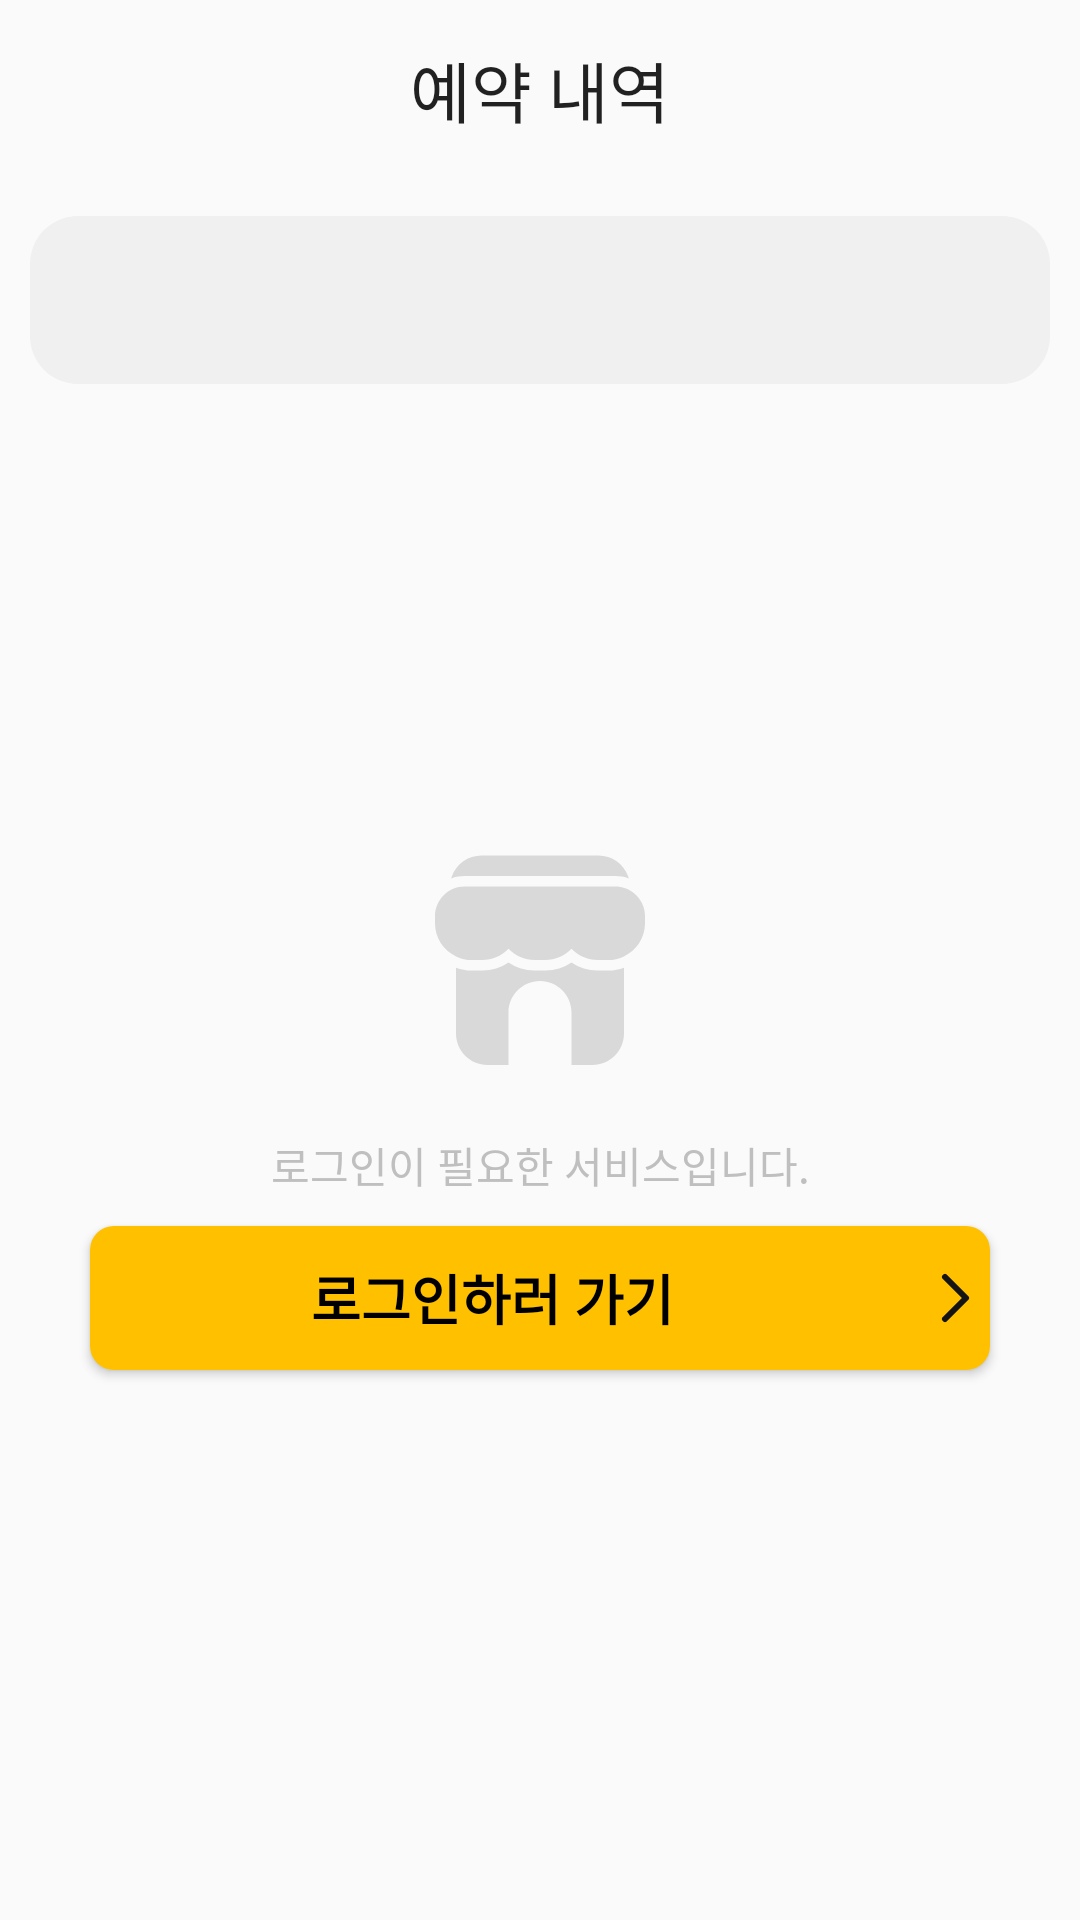

Locate icon controls on the screen. Image size 1080*1920, boxes as {"left": x1, "top": y1, "right": x2, "bottom": y2}.
store: {"left": 435, "top": 856, "right": 645, "bottom": 1065}
